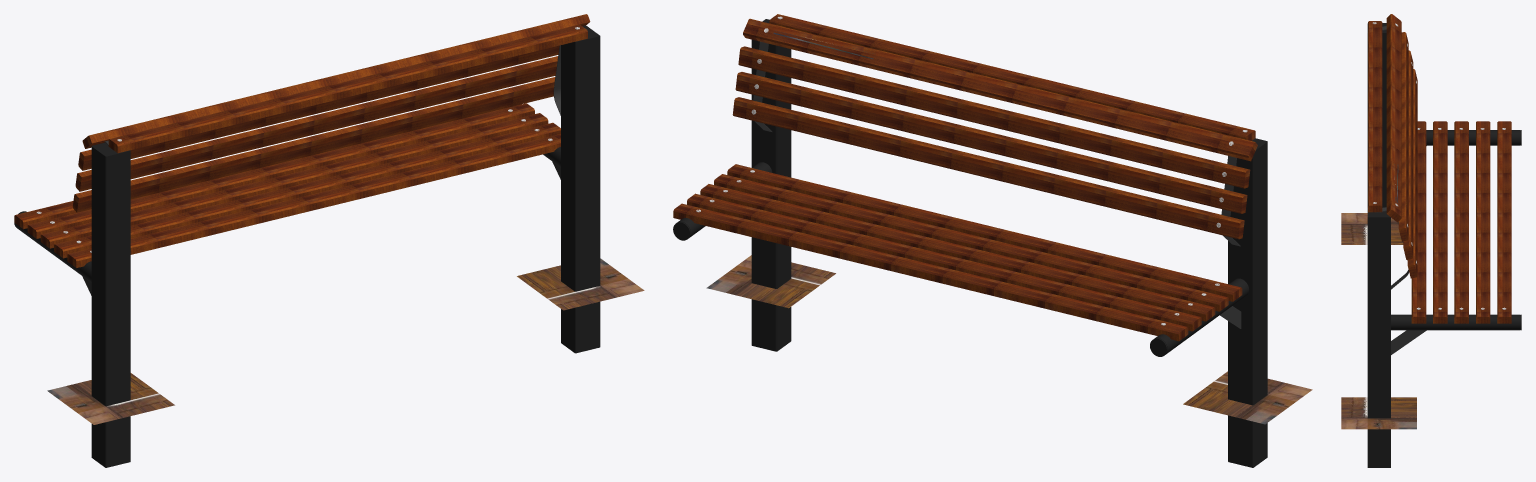
3 renders of one model, left to right at view 1: azimuth 30°, elevation 25°; view 2: azimuth 150°, elevation 25°; view 3: azimuth 270°, elevation 25°, orthographic. The views are drawn at different scales.
Parts seen in each view (by area): view 1: mesh2_mesh2-geometry, mesh26_mesh26-geometry, mesh12_mesh12-geometry, mesh1_mesh1-geometry, mesh30_mesh30-geometry, mesh16_mesh16-geometry; view 2: mesh2_mesh2-geometry, mesh26_mesh26-geometry, mesh12_mesh12-geometry, mesh1_mesh1-geometry, mesh16_mesh16-geometry, mesh30_mesh30-geometry, mesh17_mesh17-geometry; view 3: mesh2_mesh2-geometry, mesh12_mesh12-geometry, mesh1_mesh1-geometry, mesh16_mesh16-geometry, mesh3_mesh3-geometry, mesh30_mesh30-geometry, mesh26_mesh26-geometry, mesh17_mesh17-geometry, mesh14_mesh14-geometry.
Part boxes in pixels (box(x1,y1,x2,y2)): mesh2_mesh2-geometry: box(14, 14, 590, 267); mesh26_mesh26-geometry: box(91, 142, 130, 467); mesh12_mesh12-geometry: box(561, 25, 600, 353); mesh1_mesh1-geometry: box(108, 24, 587, 153); mesh30_mesh30-geometry: box(47, 373, 174, 424); mesh16_mesh16-geometry: box(517, 258, 644, 310); mesh2_mesh2-geometry: box(673, 18, 1257, 341); mesh26_mesh26-geometry: box(1228, 138, 1267, 467); mesh12_mesh12-geometry: box(751, 19, 791, 351); mesh1_mesh1-geometry: box(769, 14, 1255, 140); mesh16_mesh16-geometry: box(706, 255, 835, 308); mesh30_mesh30-geometry: box(1183, 371, 1312, 424); mesh17_mesh17-geometry: box(1150, 278, 1248, 356); mesh2_mesh2-geometry: box(1386, 14, 1511, 323); mesh12_mesh12-geometry: box(1367, 207, 1390, 467); mesh1_mesh1-geometry: box(1368, 21, 1382, 212); mesh16_mesh16-geometry: box(1341, 397, 1416, 429); mesh3_mesh3-geometry: box(1391, 314, 1521, 330); mesh30_mesh30-geometry: box(1341, 213, 1403, 244); mesh26_mesh26-geometry: box(1367, 23, 1386, 207); mesh17_mesh17-geometry: box(1426, 130, 1521, 145); mesh14_mesh14-geometry: box(1391, 330, 1426, 354).
Bounding box in the file's own units: 0.8347 × 0.4659 × 0.2935.
